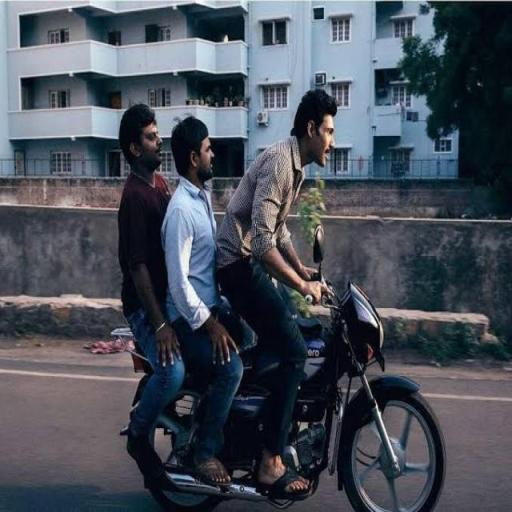tripple riding: (110, 94, 440, 464)
